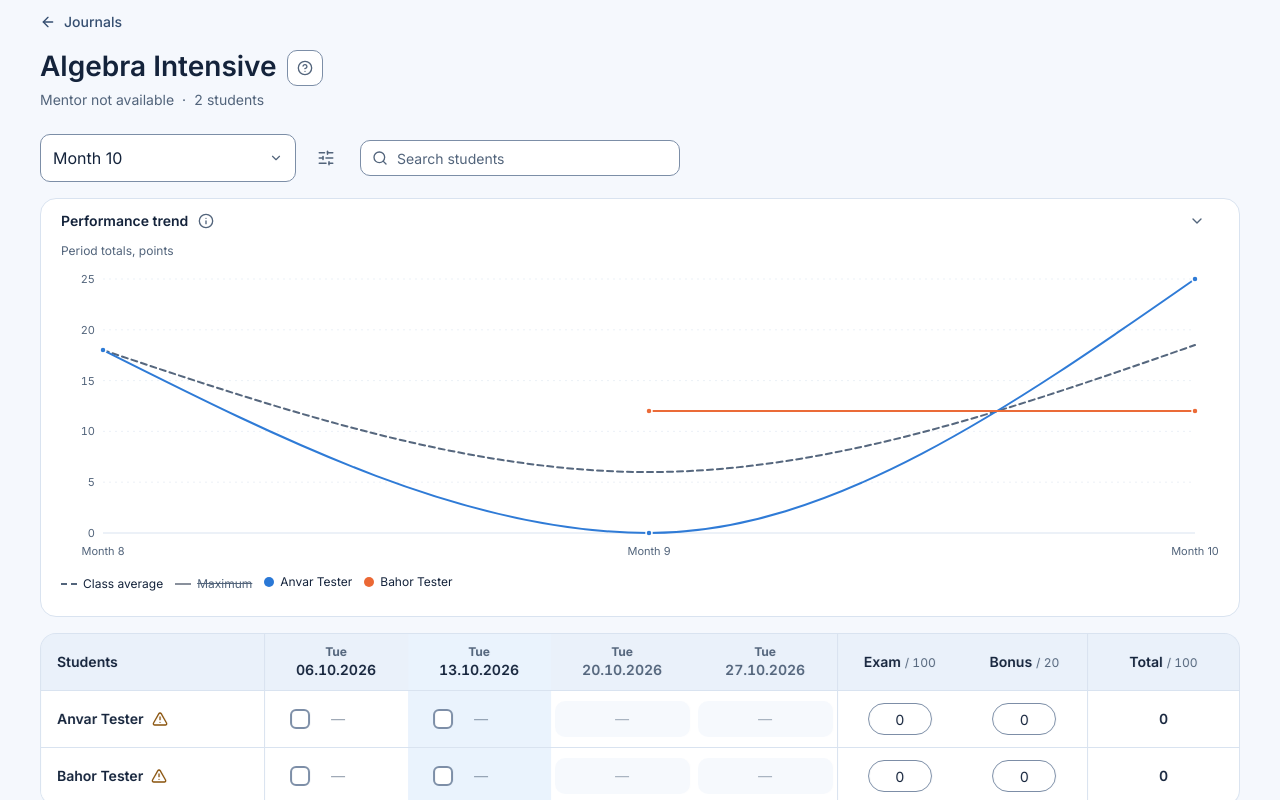
Test: period selection › opens a listbox of rows with label, muted range, timing chip and a check on the selected period, with no fill-state badge
Click the button with aria-label "Period".
click(168, 158)  # box [40,134,296,182]
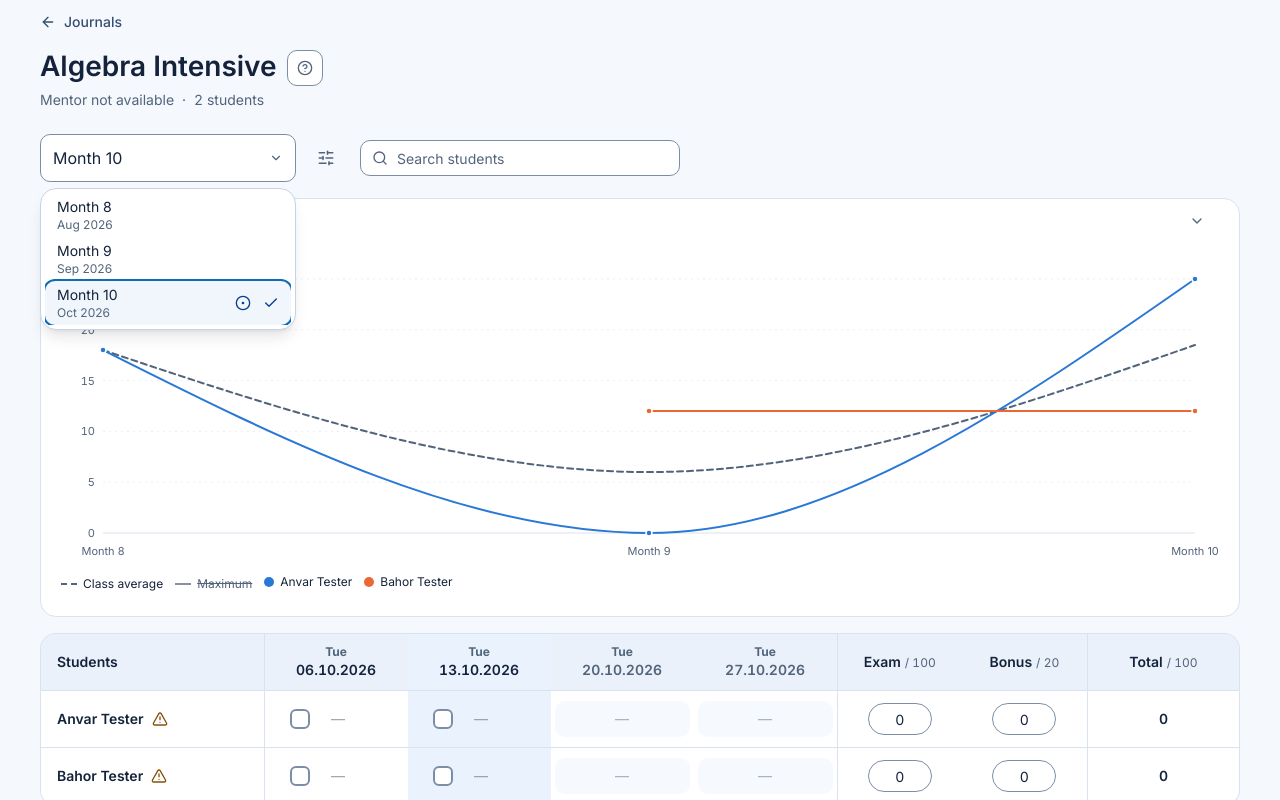
Check: the number of options is 3, box [45,193,291,237]; [45,237,291,281]; [45,281,291,325]
Check: the option "Month 8 Aug 2026" is shown, box [45,193,291,237]
